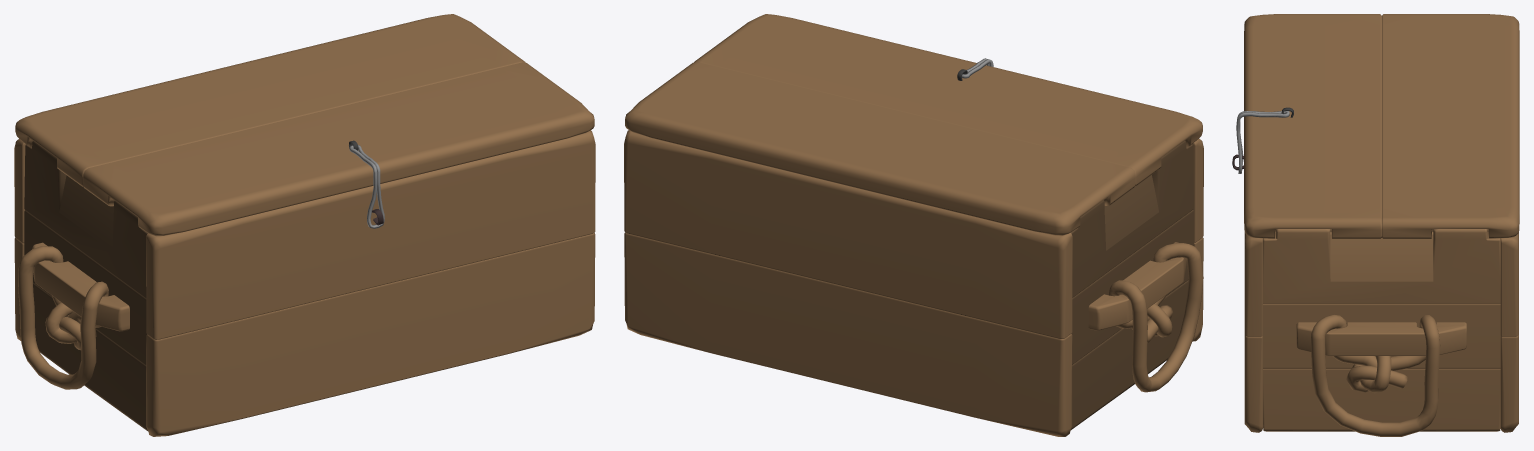
Rendered from parts.gltf.
The picture shows the model from 3 angles, left to right: view 1: azimuth 30°, elevation 25°; view 2: azimuth 150°, elevation 25°; view 3: azimuth 270°, elevation 25°; orthographic projection. The views are drawn at different scales.
Parts seen in each view (by area): view 1: wooden_crate_01, wooden_crate_01_lid, wooden_crate_01_latch; view 2: wooden_crate_01, wooden_crate_01_lid; view 3: wooden_crate_01_lid, wooden_crate_01, wooden_crate_01_latch.
Boxes of the visible parts, <box> form: wooden_crate_01: <box>14,130,595,436</box>; wooden_crate_01_lid: <box>15,14,594,236</box>; wooden_crate_01_latch: <box>349,145,384,228</box>; wooden_crate_01: <box>624,130,1203,436</box>; wooden_crate_01_lid: <box>625,14,1202,235</box>; wooden_crate_01_lid: <box>1244,14,1519,238</box>; wooden_crate_01: <box>1232,154,1518,436</box>; wooden_crate_01_latch: <box>1236,111,1289,173</box>.
Size of the model in its own units: 0.8253 by 0.3496 by 0.409.
